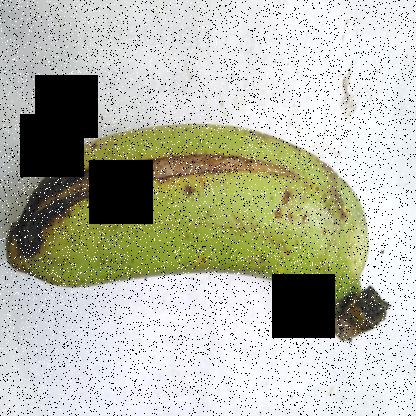rotten: (1, 80, 287, 274)
